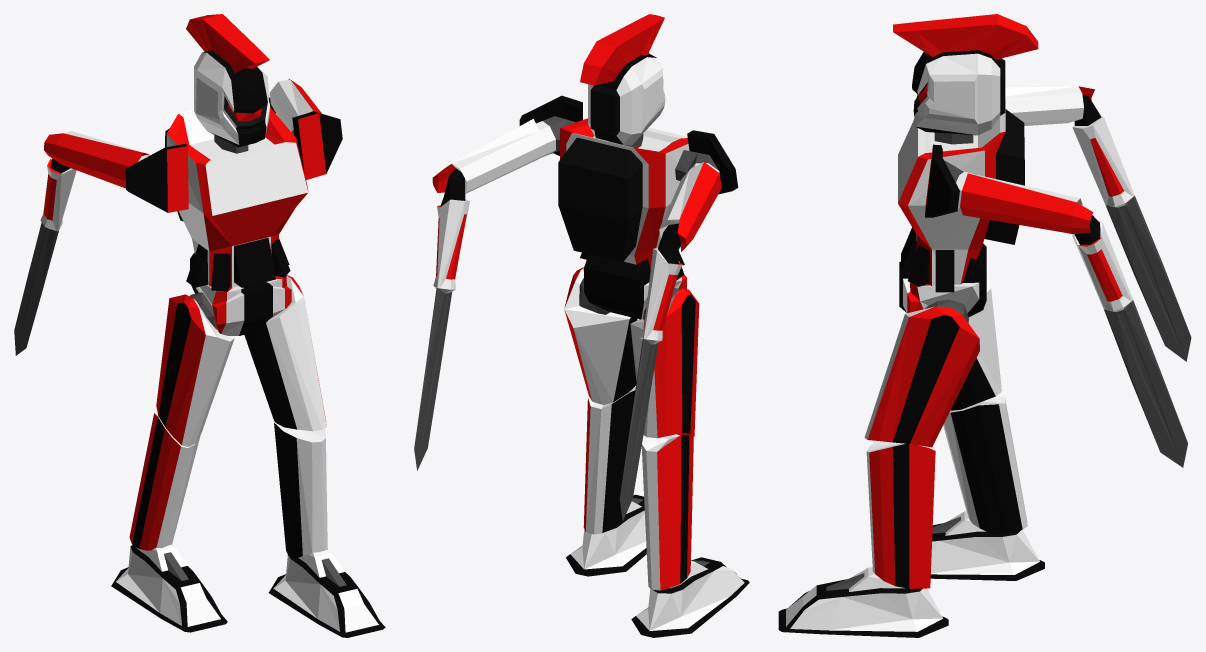
The model's file is robots_000001.obj.
3 renders of one model, left to right at view 1: azimuth 30°, elevation 25°; view 2: azimuth 150°, elevation 25°; view 3: azimuth 270°, elevation 25°, orthographic. The views are drawn at different scales.
Visible parts, largest first — view 1: Chest_plate_Cube.004, Head_gladiator_Cube.024, R_Thigh_Cube.005, R_Thigh.002_Cube.027, R_Forearm.001_Cube.028, R_Shin.002_Cube.029, R_Foot_Cube, R_Foot.002_Cube.035, R_Shin_Cube.007, Pelvis_Cube.006, R_Arm.002_Cube.032, R_Arm.003_Cube.034 (+1 smaller); view 2: Chest_plate_Cube.004, R_Forearm.002_Cube.033, R_Forearm.001_Cube.028, Head_gladiator_Cube.024, R_Shin_Cube.007, R_Thigh_Cube.005, R_Thigh.002_Cube.027, R_Shin.002_Cube.029, R_Foot_Cube, R_Foot.002_Cube.035, Pelvis_Cube.006, R_Arm.002_Cube.032 (+1 smaller); view 3: R_Forearm.002_Cube.033, Chest_plate_Cube.004, Head_gladiator_Cube.024, R_Forearm.001_Cube.028, R_Thigh.002_Cube.027, R_Shin.002_Cube.029, R_Shin_Cube.007, R_Foot.002_Cube.035, R_Foot_Cube, R_Thigh_Cube.005, Pelvis_Cube.006, R_Arm.003_Cube.034.
Boxes of the visible parts, x1,y1,x2,y2 form: Chest_plate_Cube.004: (165, 108, 308, 291); Head_gladiator_Cube.024: (186, 14, 270, 147); R_Thigh_Cube.005: (156, 294, 234, 446); R_Thigh.002_Cube.027: (244, 275, 326, 431); R_Forearm.001_Cube.028: (14, 131, 149, 355); R_Shin.002_Cube.029: (274, 421, 327, 558); R_Foot_Cube: (111, 544, 227, 632); R_Foot.002_Cube.035: (268, 549, 385, 637); R_Shin_Cube.007: (129, 413, 200, 550); Pelvis_Cube.006: (190, 252, 291, 335); R_Arm.002_Cube.032: (125, 143, 188, 212); R_Arm.003_Cube.034: (290, 111, 342, 179); Chest_plate_Cube.004: (558, 118, 689, 280); R_Forearm.002_Cube.033: (414, 119, 546, 470); R_Forearm.001_Cube.028: (619, 162, 721, 521); Head_gladiator_Cube.024: (580, 14, 665, 145); R_Shin_Cube.007: (641, 434, 693, 590); R_Thigh_Cube.005: (630, 288, 699, 438); R_Thigh.002_Cube.027: (564, 267, 637, 404); R_Shin.002_Cube.029: (583, 386, 635, 534); R_Foot_Cube: (631, 557, 749, 637); R_Foot.002_Cube.035: (566, 494, 646, 576); Pelvis_Cube.006: (583, 254, 686, 319); R_Arm.002_Cube.032: (675, 130, 738, 194); R_Forearm.002_Cube.033: (960, 173, 1187, 467); Chest_plate_Cube.004: (898, 100, 1024, 292); Head_gladiator_Cube.024: (893, 14, 1038, 135); R_Forearm.001_Cube.028: (1005, 86, 1191, 361); R_Thigh.002_Cube.027: (864, 306, 979, 447); R_Shin.002_Cube.029: (866, 441, 935, 588); R_Shin_Cube.007: (943, 393, 1027, 533); R_Foot.002_Cube.035: (778, 567, 948, 637); R_Foot_Cube: (930, 511, 1044, 580); R_Thigh_Cube.005: (950, 279, 1001, 410); Pelvis_Cube.006: (899, 243, 986, 317); R_Arm.003_Cube.034: (925, 144, 973, 217).
Size of the model in its own units: 1.51 by 3.17 by 2.05.
